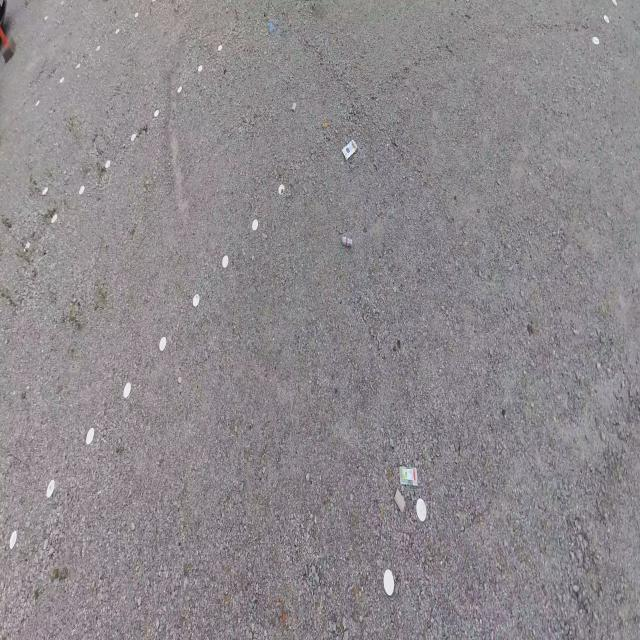rubbish: (393, 489, 407, 515), (400, 467, 418, 487), (341, 140, 359, 159), (269, 23, 277, 38), (341, 237, 353, 246)
